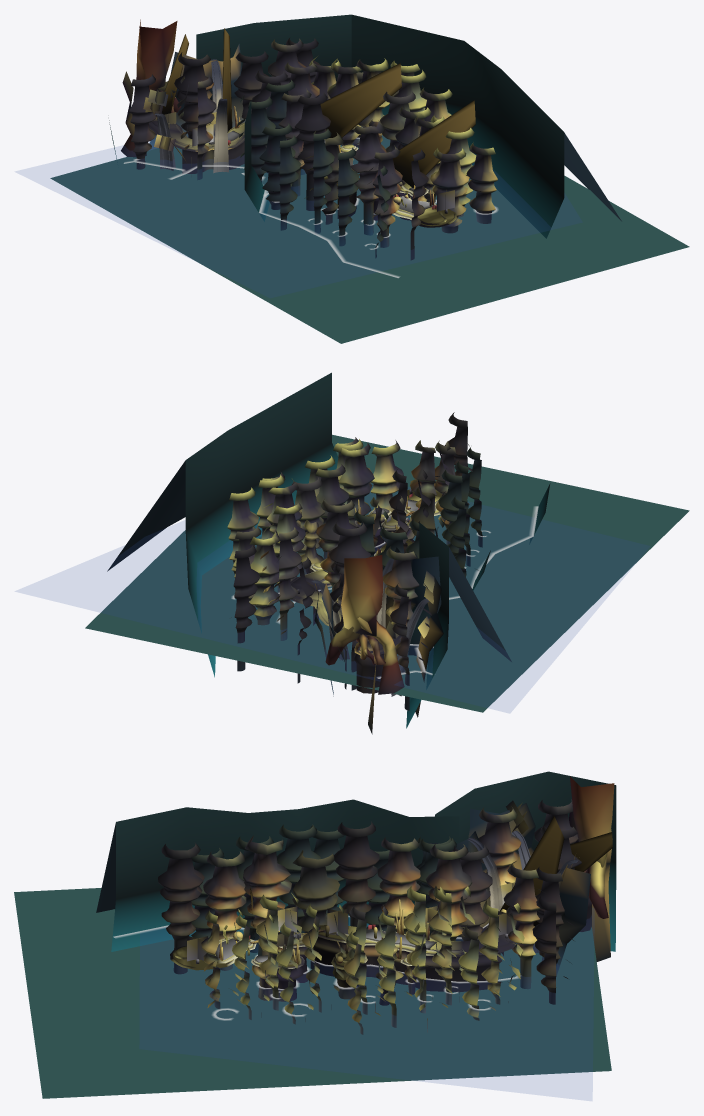
The model's file is 03Cave.gltf.
3 views of the same model, one above another, from view 1: azimuth 30°, elevation 25°; view 2: azimuth 150°, elevation 25°; view 3: azimuth 270°, elevation 25° (orthographic). The views are drawn at different scales.
Parts seen in each view (by area): view 1: stg020_o03_Mesh_0016, stg020_o03_Mesh_0008, stg020_w03_Mesh_0000, stg020_o03_Mesh_0015, stg020_a03_Mesh_0001, stg020_o03_Mesh_0013, stg020_falls_w_11_Mesh_0000, stg020_o03_Mesh_0021, stg020_ripple_k_03_Mesh_0000, stg020_p03_Mesh_0003, stg020_p03_Mesh_0000, stg020_p03_Mesh_0002; view 2: stg020_o03_Mesh_0016, stg020_w03_Mesh_0000, stg020_o03_Mesh_0008, stg020_o03_Mesh_0015, stg020_o03_Mesh_0013, stg020_o03_Mesh_0021, stg020_falls_w_11_Mesh_0000, stg020_ripple_k_03_Mesh_0000, stg020_p03_Mesh_0000; view 3: stg020_o03_Mesh_0016, stg020_o03_Mesh_0008, stg020_w03_Mesh_0000, stg020_o03_Mesh_0015, stg020_o03_Mesh_0013, stg020_a03_Mesh_0001, stg020_p03_Mesh_0002, stg020_o03_Mesh_0021, stg020_p03_Mesh_0000, stg020_falls_w_11_Mesh_0000, stg020_ripple_k_03_Mesh_0000, stg020_a03_Mesh_0002 (+1 smaller).
Part boxes in pixels (x1,y1,x2,y2): stg020_o03_Mesh_0016: [50, 135, 689, 343]; stg020_o03_Mesh_0008: [129, 38, 497, 260]; stg020_w03_Mesh_0000: [16, 136, 581, 297]; stg020_o03_Mesh_0015: [109, 14, 621, 238]; stg020_a03_Mesh_0001: [156, 28, 475, 187]; stg020_o03_Mesh_0013: [121, 19, 434, 206]; stg020_falls_w_11_Mesh_0000: [154, 59, 229, 173]; stg020_o03_Mesh_0021: [148, 117, 454, 226]; stg020_ripple_k_03_Mesh_0000: [123, 137, 498, 277]; stg020_p03_Mesh_0003: [143, 81, 216, 151]; stg020_p03_Mesh_0000: [149, 121, 456, 227]; stg020_p03_Mesh_0002: [192, 124, 454, 213]; stg020_o03_Mesh_0016: [85, 434, 689, 712]; stg020_w03_Mesh_0000: [15, 483, 649, 712]; stg020_o03_Mesh_0008: [227, 412, 482, 710]; stg020_o03_Mesh_0015: [107, 372, 550, 734]; stg020_o03_Mesh_0013: [325, 494, 414, 694]; stg020_o03_Mesh_0021: [291, 490, 442, 654]; stg020_falls_w_11_Mesh_0000: [311, 552, 429, 696]; stg020_ripple_k_03_Mesh_0000: [231, 506, 538, 678]; stg020_p03_Mesh_0000: [290, 494, 440, 655]; stg020_o03_Mesh_0016: [14, 888, 611, 1098]; stg020_o03_Mesh_0008: [158, 799, 591, 1034]; stg020_w03_Mesh_0000: [140, 908, 593, 1100]; stg020_o03_Mesh_0015: [96, 771, 616, 977]; stg020_o03_Mesh_0013: [218, 776, 614, 964]; stg020_a03_Mesh_0001: [250, 816, 612, 942]; stg020_p03_Mesh_0002: [187, 881, 516, 963]; stg020_o03_Mesh_0021: [172, 925, 514, 968]; stg020_p03_Mesh_0000: [170, 925, 534, 970]; stg020_falls_w_11_Mesh_0000: [467, 830, 578, 955]; stg020_ripple_k_03_Mesh_0000: [113, 915, 520, 1020]; stg020_a03_Mesh_0002: [215, 928, 436, 962].
Size of the model in its own units: 351 by 120 by 376.
